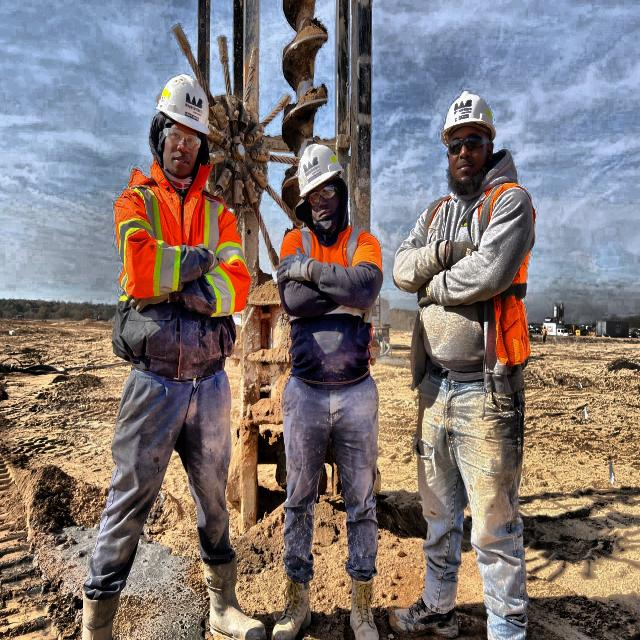safety_helmet: (152, 68, 218, 133), (292, 143, 345, 185)
safety_jacket: (122, 176, 241, 379), (413, 195, 534, 366), (278, 222, 377, 387)
